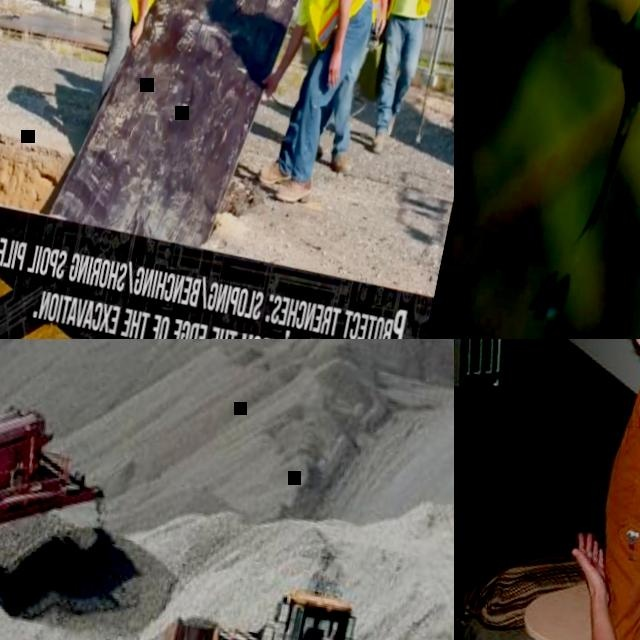NO-Safety Vest: (606, 339, 640, 526)
Person: (238, 0, 395, 212), (551, 339, 640, 640), (299, 0, 419, 164), (83, 0, 217, 129), (355, 0, 454, 159), (526, 527, 640, 640), (301, 613, 329, 640)
Safety Vest: (292, 0, 380, 59)
machinery: (109, 536, 427, 640), (0, 373, 118, 627)
